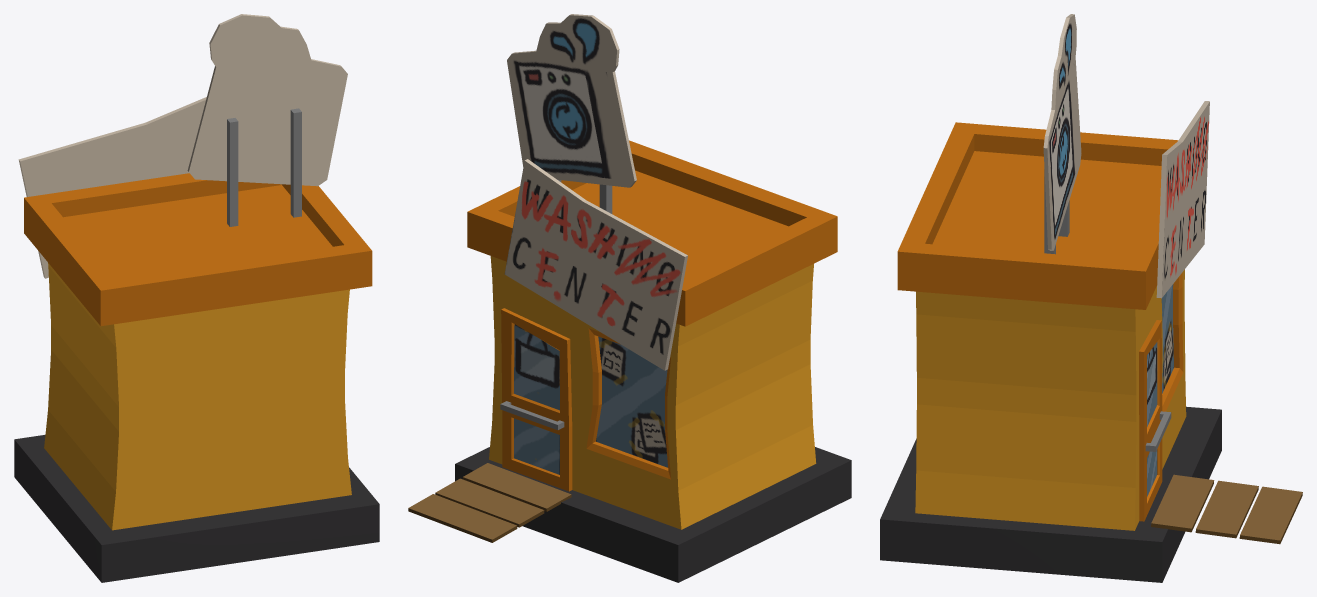
Rendered from SM_WashingCenter.fbx.
The picture shows the model from 3 angles, left to right: view 1: azimuth 30°, elevation 25°; view 2: azimuth 150°, elevation 25°; view 3: azimuth 270°, elevation 25°; orthographic projection. The views are drawn at different scales.
Parts seen in each view (by area): view 1: wash.003, Cube.058; view 2: wash.003, Cube.058, maderasSuelo.009; view 3: wash.003, Cube.058, maderasSuelo.009.
Part boxes in pixels (box(x1,y1,x2,y2)): wash.003: box(18, 14, 372, 530); Cube.058: box(14, 435, 379, 582); wash.003: box(467, 14, 837, 529); Cube.058: box(455, 447, 851, 582); maderasSuelo.009: box(408, 463, 571, 542); wash.003: box(897, 14, 1209, 530); Cube.058: box(880, 406, 1221, 582); maderasSuelo.009: box(1151, 474, 1302, 544).
Bounding box in the file's own units: 413 × 637 × 473.
